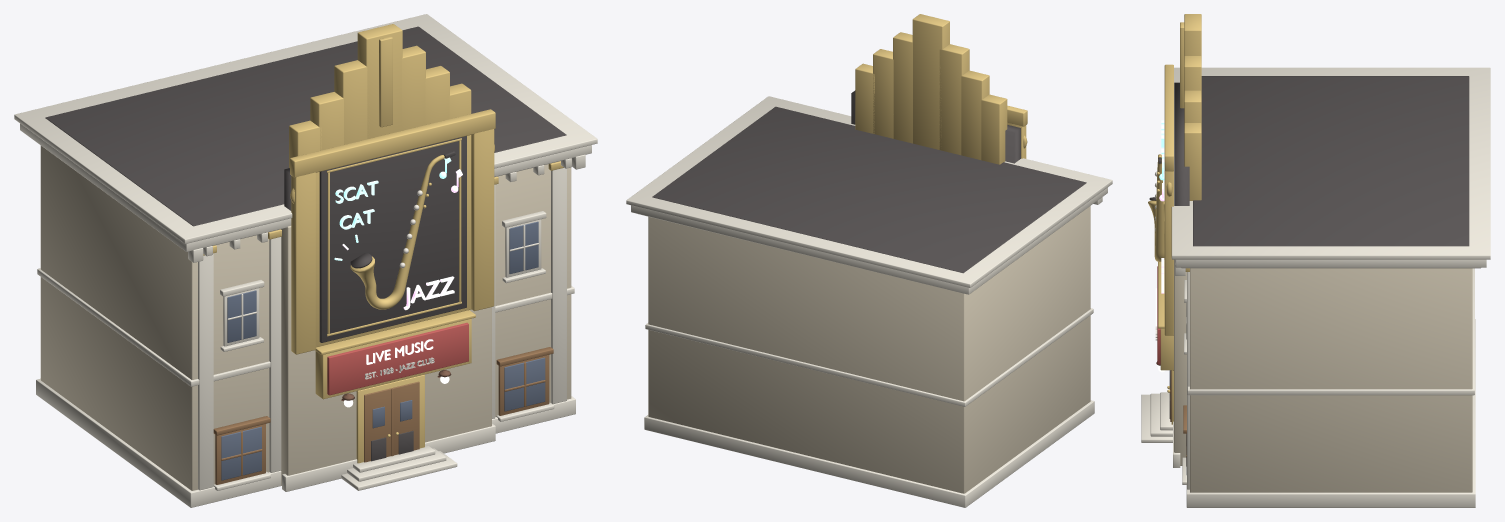
File: club.glb
3 views of the same model, side by side, from view 1: azimuth 30°, elevation 25°; view 2: azimuth 150°, elevation 25°; view 3: azimuth 270°, elevation 25° (orthographic). The views are drawn at different scales.
Parts seen in each view (by area): view 1: corpo, tetto, pannello, cornicione_corona, avancorpo, marquee_cassa, zoccolo, cresta_fascia, cresta_gamba_L, cresta_gamba_R, lesena_3, lesena_0 (+29 smaller); view 2: corpo, tetto, cornicione_corona, zoccolo, cresta_canna_0, cornicione_fascia, fascia_pt, cresta_canna_1, cresta_canna_2, cresta_canna_3, cresta_canna_4, cresta_canna_5 (+2 smaller); view 3: corpo, tetto, cornicione_corona, zoccolo, cornicione_fascia, fascia_pt, avancorpo, cresta_gamba_R, COL_cresta, cresta_canna_6, cresta_fascia, sax_corpo (+11 smaller).
Boxes of the visible parts, bbox=[...] form: corpo: bbox=[40, 145, 571, 490]; tetto: bbox=[45, 26, 566, 226]; pannello: bbox=[319, 136, 466, 342]; cornicione_corona: bbox=[14, 14, 597, 243]; avancorpo: bbox=[281, 226, 491, 485]; marquee_cassa: bbox=[327, 322, 468, 395]; zoccolo: bbox=[36, 378, 575, 507]; cresta_fascia: bbox=[290, 109, 495, 177]; cresta_gamba_L: bbox=[291, 172, 315, 354]; cresta_gamba_R: bbox=[471, 129, 494, 311]; lesena_3: bbox=[551, 168, 566, 404]; lesena_0: bbox=[198, 253, 213, 490]; corpo: bbox=[648, 206, 1090, 493]; tetto: bbox=[652, 106, 1086, 273]; cornicione_corona: bbox=[626, 96, 1112, 287]; zoccolo: bbox=[644, 400, 1094, 507]; cresta_canna_0: bbox=[912, 14, 949, 149]; cornicione_fascia: bbox=[631, 187, 1107, 294]; fascia_pt: bbox=[645, 308, 1093, 406]; cresta_canna_1: bbox=[939, 44, 969, 155]; cresta_canna_2: bbox=[893, 32, 912, 143]; cresta_canna_3: bbox=[961, 70, 989, 159]; cresta_canna_4: bbox=[873, 49, 893, 138]; cresta_canna_5: bbox=[981, 94, 1007, 164]; corpo: bbox=[1190, 268, 1472, 492]; tetto: bbox=[1193, 76, 1469, 246]; cornicione_corona: bbox=[1171, 67, 1490, 259]; zoccolo: bbox=[1186, 319, 1475, 507]; cornicione_fascia: bbox=[1175, 259, 1486, 267]; fascia_pt: bbox=[1187, 268, 1474, 395]; avancorpo: bbox=[1174, 259, 1186, 465]; cresta_gamba_R: bbox=[1164, 171, 1173, 335]; COL_cresta: bbox=[1174, 82, 1189, 205]; cresta_canna_6: bbox=[1184, 123, 1201, 200]; cresta_fascia: bbox=[1164, 64, 1173, 171]; sax_corpo: bbox=[1148, 154, 1164, 261].
Bounding box in the file's own units: 14.15 × 14 × 11.12.
